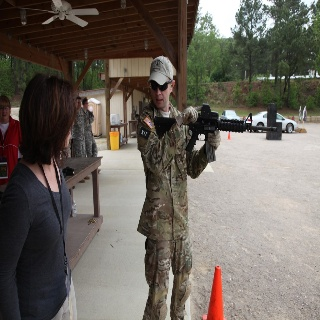rifle: (152, 103, 278, 153)
